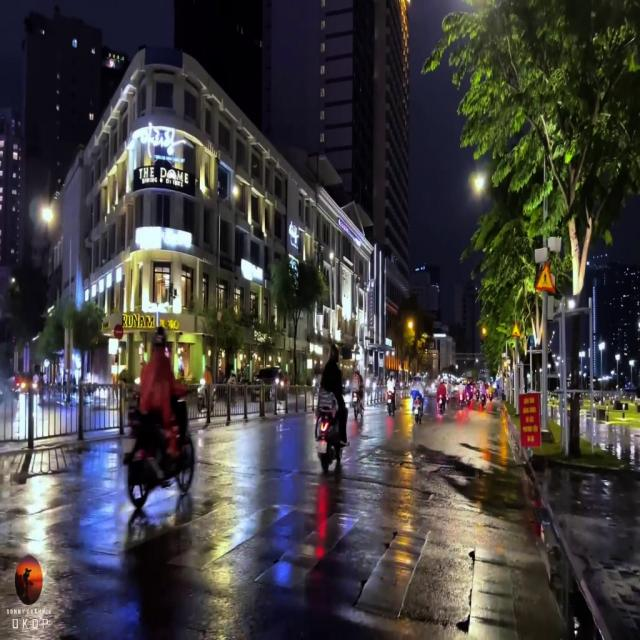cam_xe_di_nguoc_chieu: (114, 326, 124, 338)
chu_y_nguoi_di_bo_cat_ngang: (536, 261, 555, 292)
duong_co_song_map_mo_nhan_tao: (511, 320, 521, 336)
